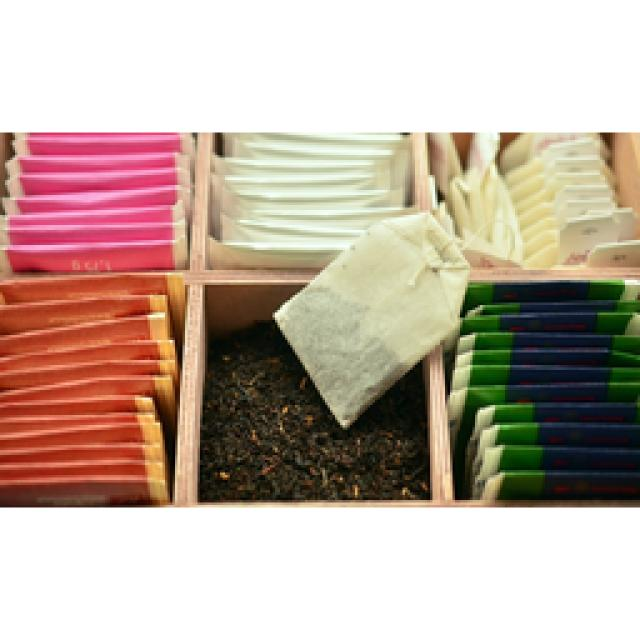tea-bags: (449, 281, 640, 500), (274, 217, 470, 429), (0, 277, 181, 504), (431, 134, 640, 268), (0, 132, 192, 272), (210, 134, 410, 268)
